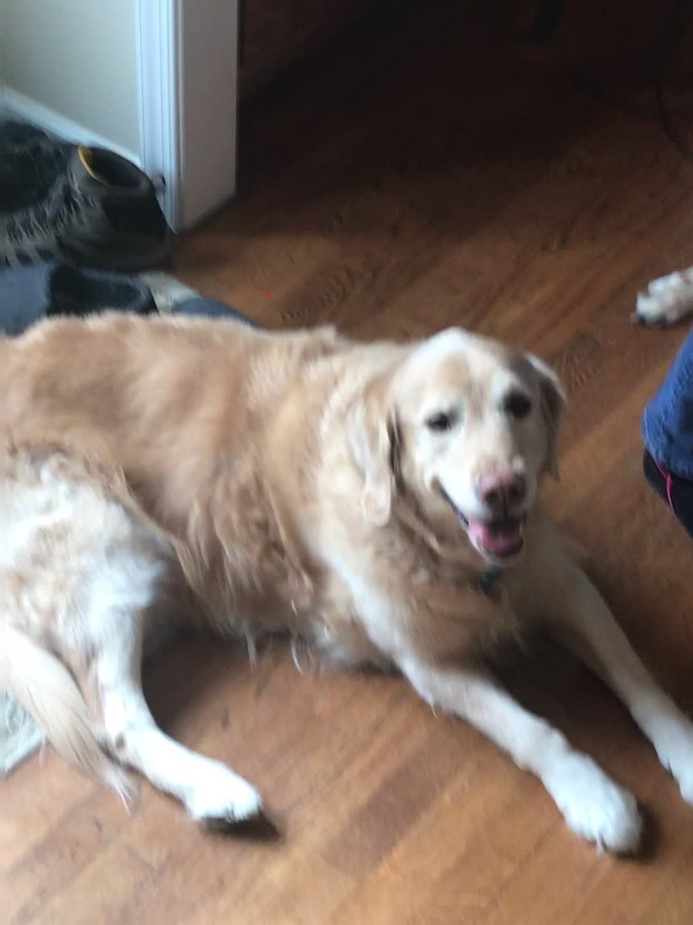bella: (362, 325, 569, 568)
